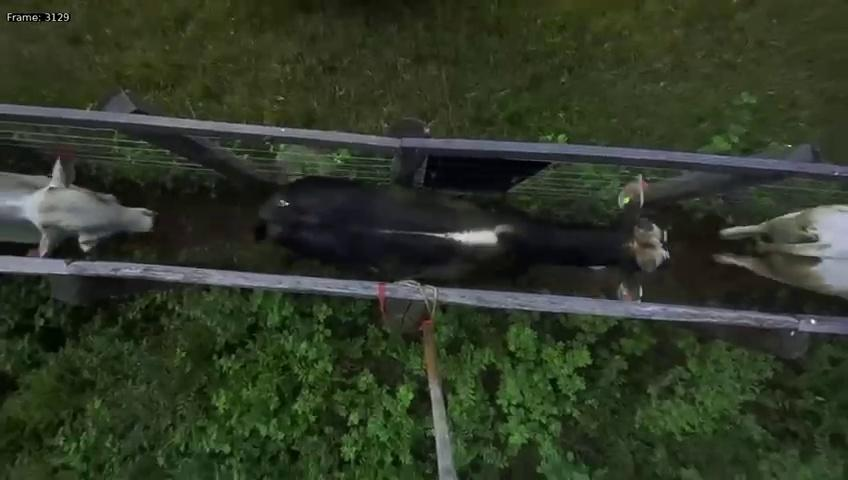cattle: (258, 164, 669, 309), (1, 152, 157, 261)
